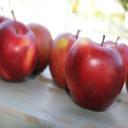apple: (49, 34, 85, 88)
